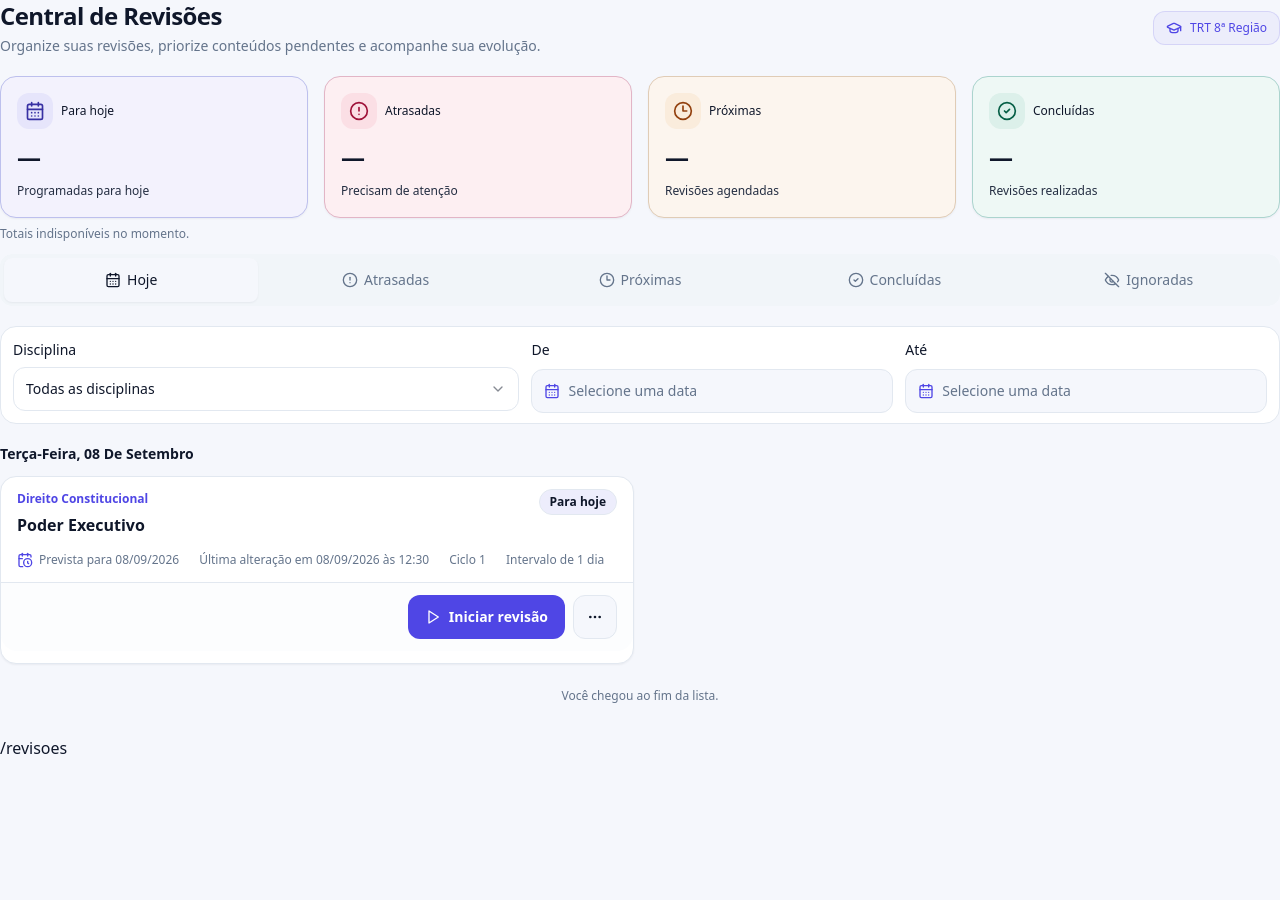
Test: Revisoes › exibe um conflito 409 de forma recuperável
Click the button named "Mais ações para Poder Executivo" at (595, 616), box [573,594,617,638]
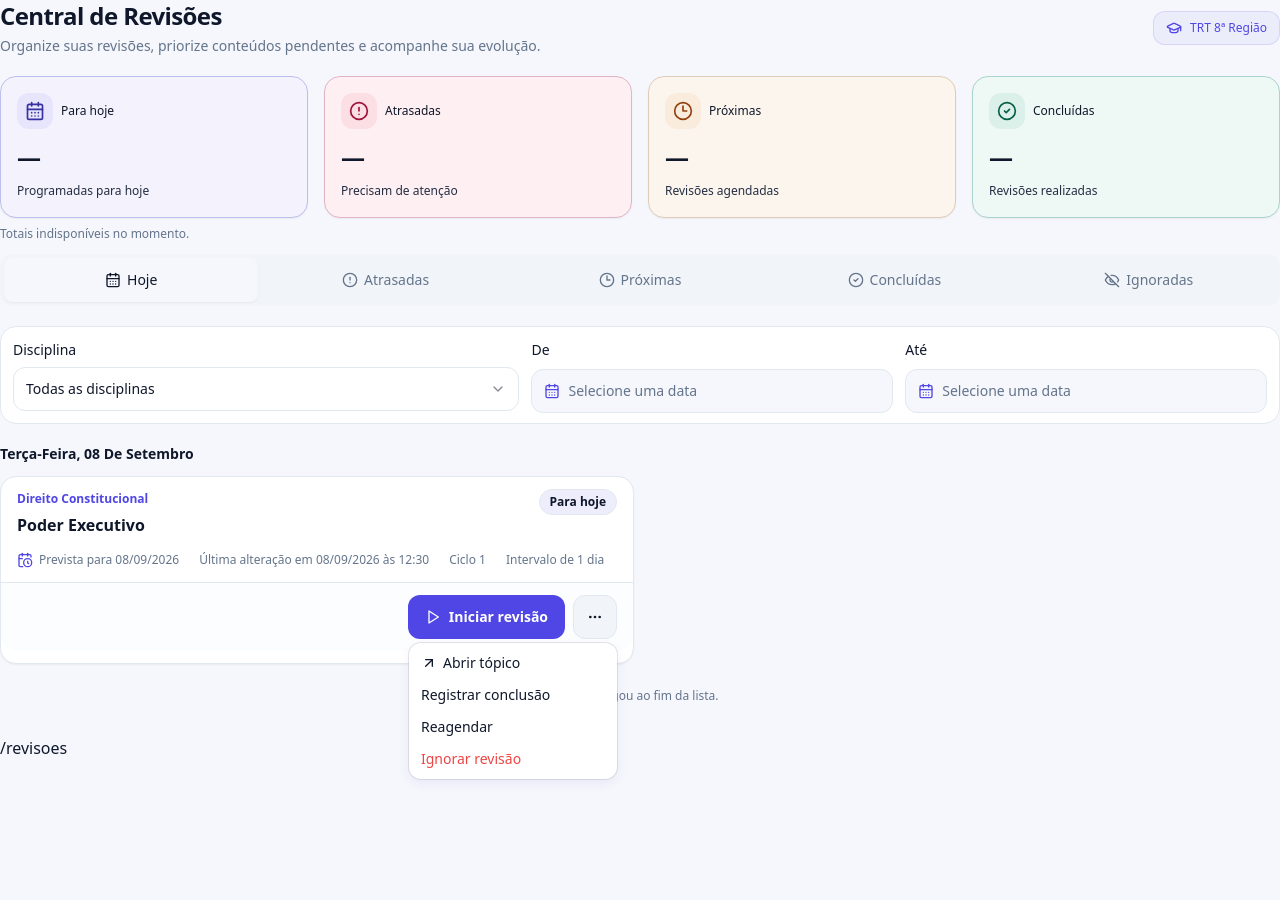
Click the menu item "Ignorar revisão" at (471, 758), box [421,749,521,768]
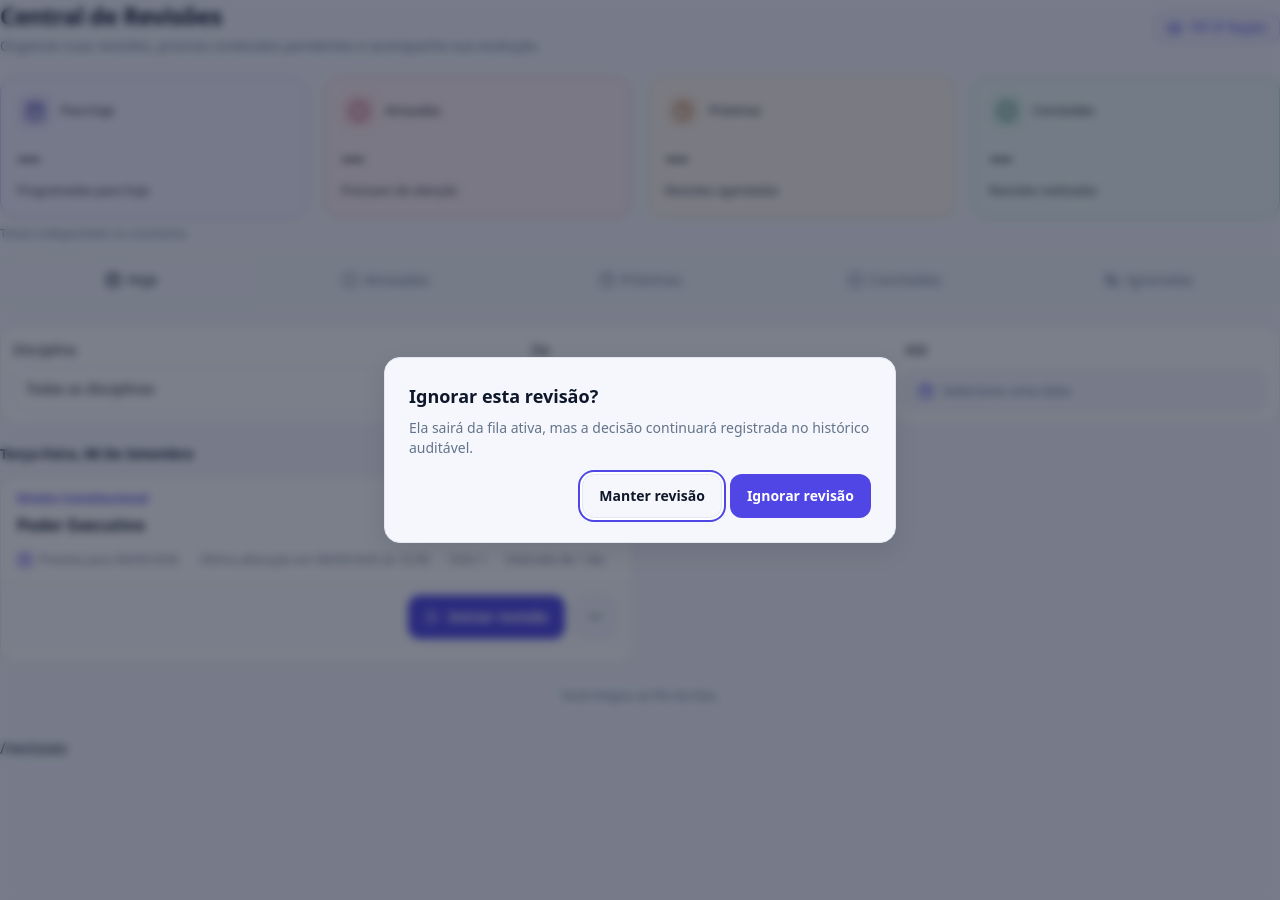
Click the button "Ignorar revisão" at (800, 496), box [730,474,871,518]
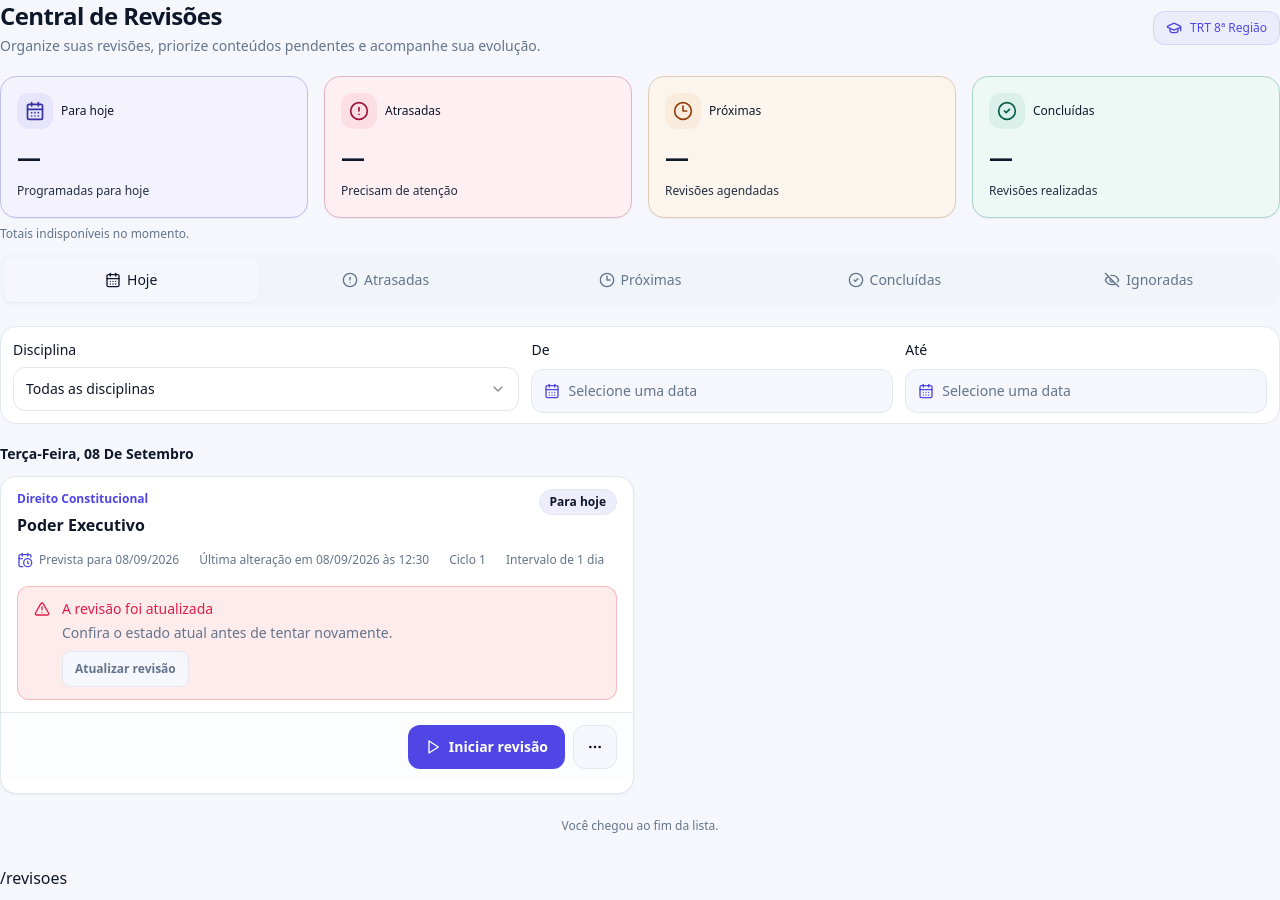
Result: the text "A revisão foi atualizada" is shown at [62,598,213,618]
Result: the button "Atualizar revisão" is shown at [62,650,189,686]
